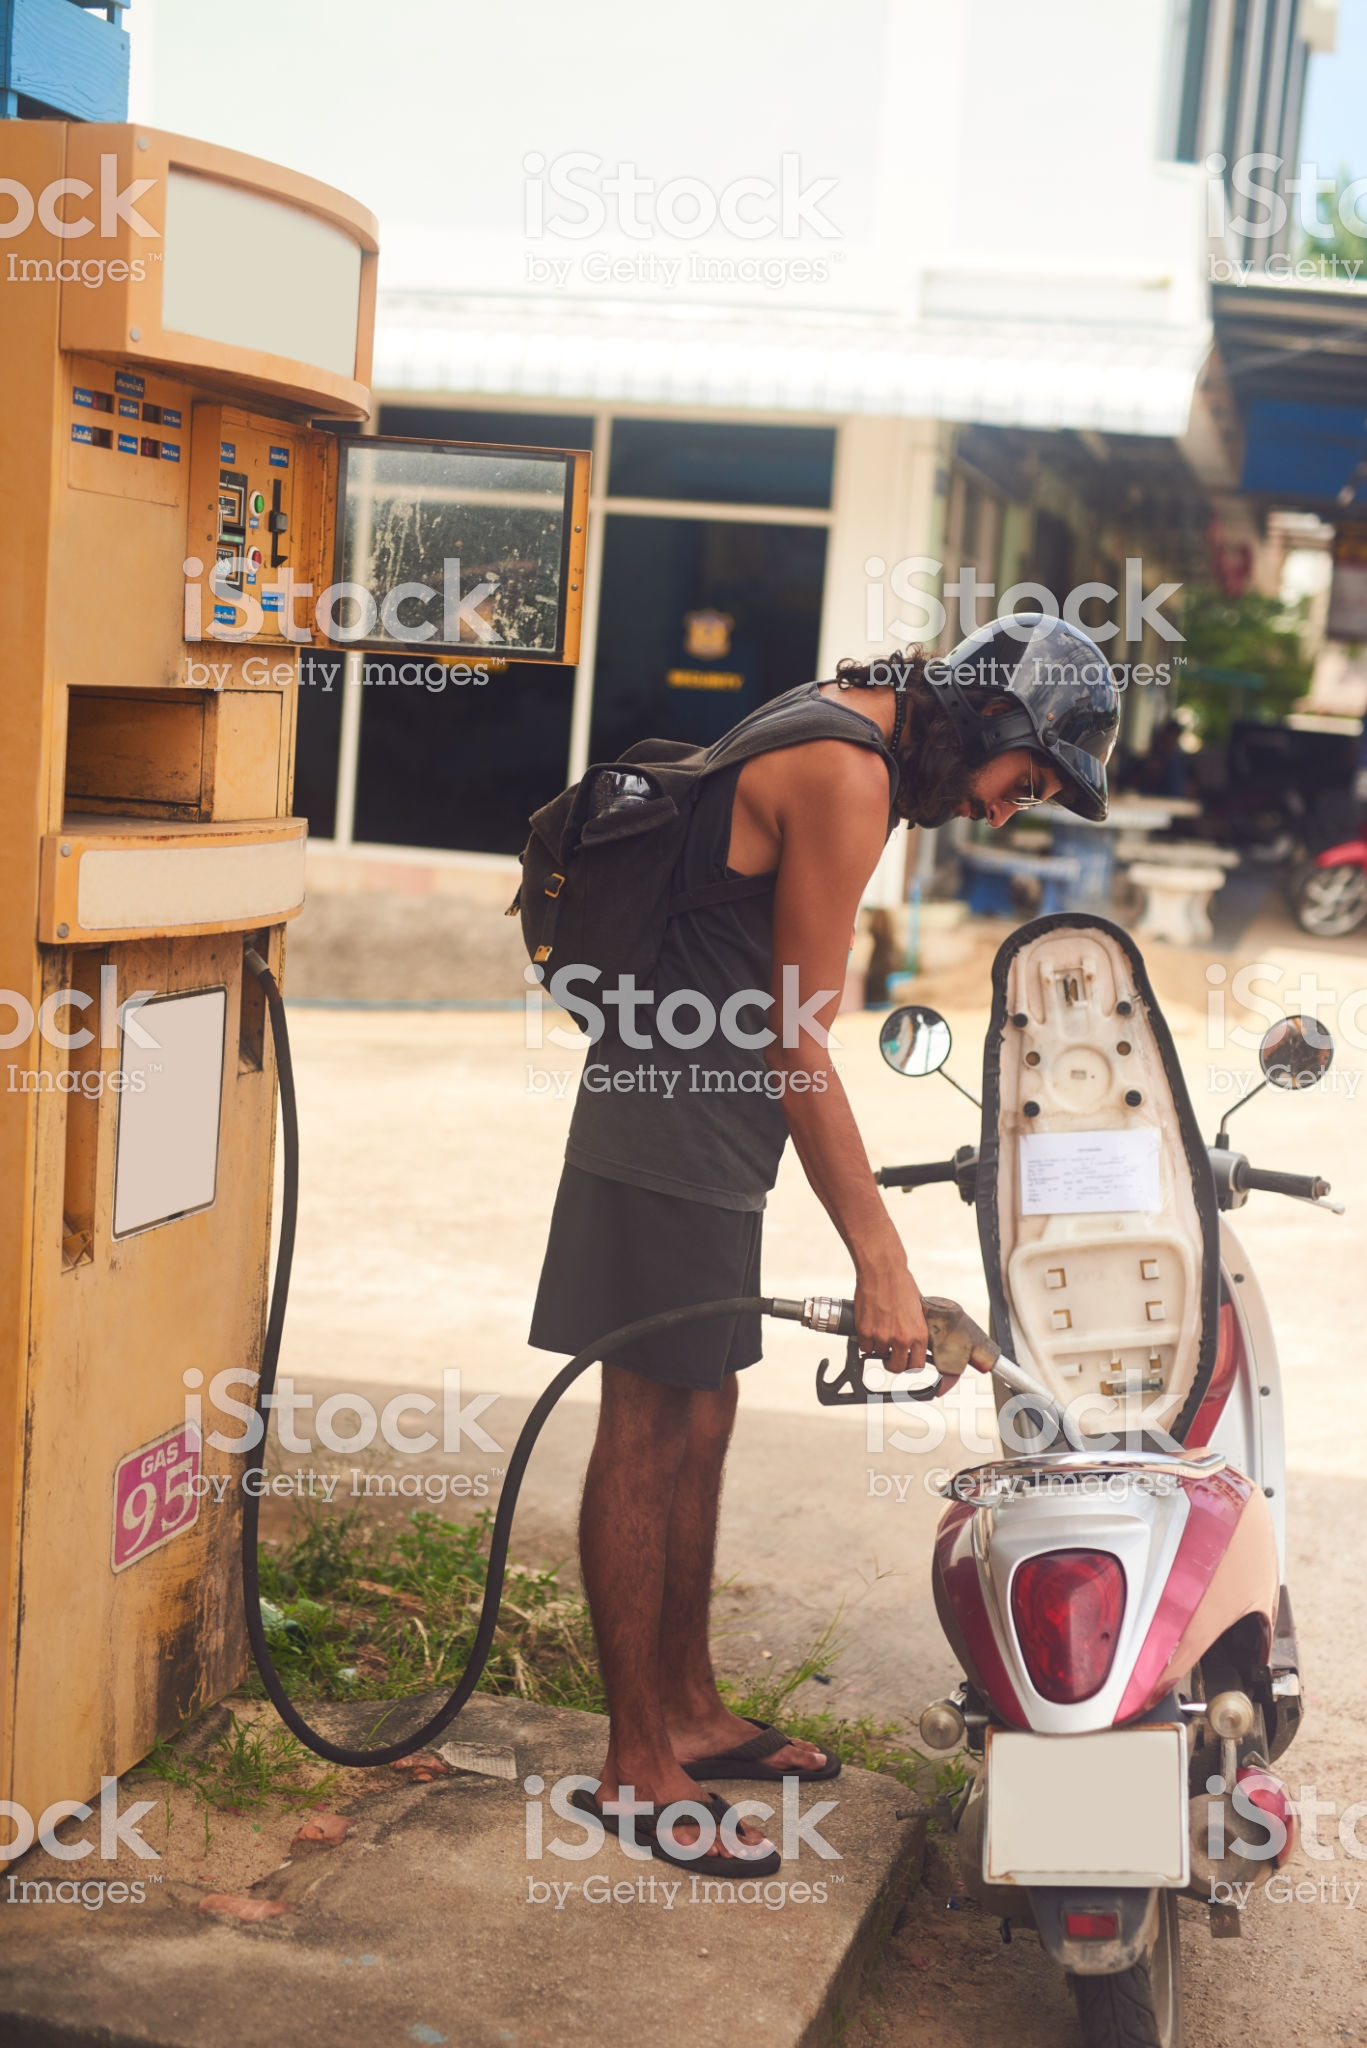helmet: (886, 592, 1185, 807)
